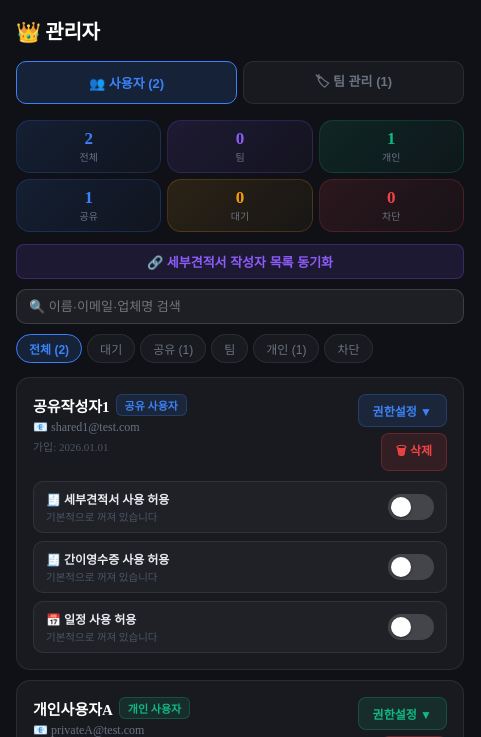
Test: 권한설정 화면에는 더 이상 '공유 사용자' 선택 옵션이 없다 (재발 방지)
The image size is (481, 737).
Click the button "권한설정 ▼" in the row of "공유 사용자" at (402, 410), box [358,394,447,427]
(page scrolled)
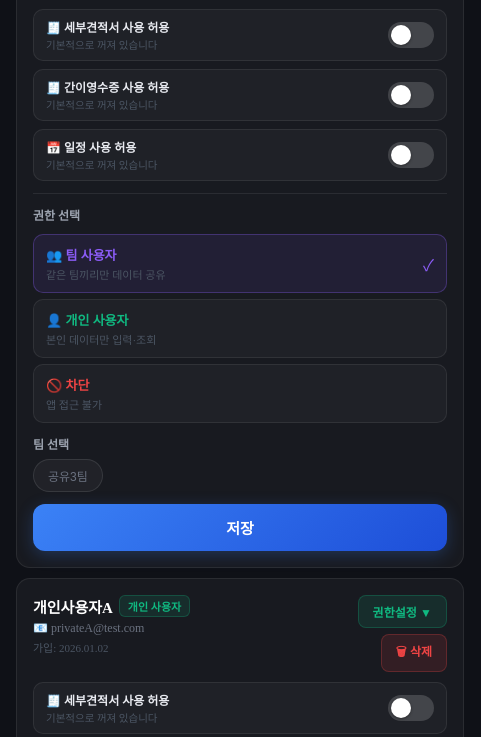
Expected: the text "👥 팀 사용자" is shown, [46,248,117,263]
Expected: the text "👤 개인 사용자" is shown, [46,313,128,328]
Expected: the text "🚫 차단" is shown, [46,378,89,393]
